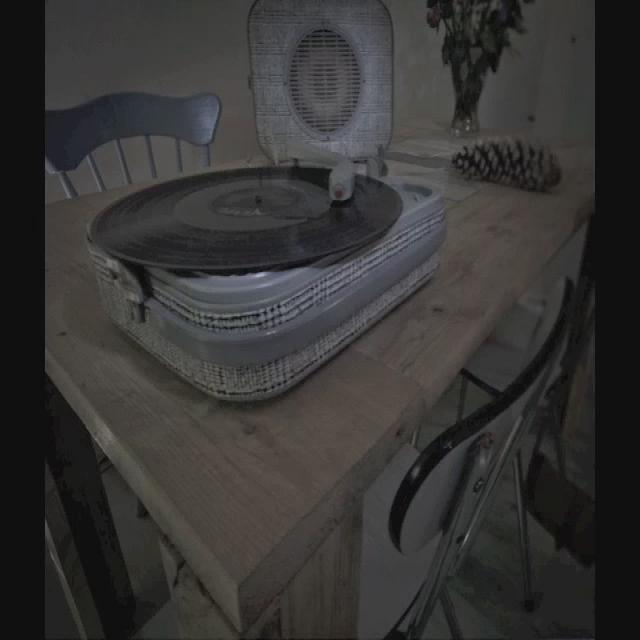chair: (356, 276, 577, 640), (524, 213, 597, 511), (44, 91, 220, 198)
dining table: (47, 111, 592, 634)
